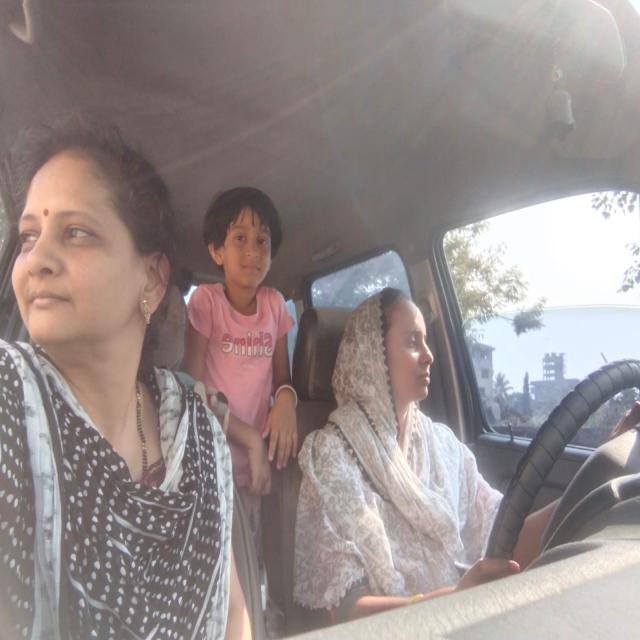LeftRight: (347, 285, 443, 429)
person: (8, 110, 185, 370), (202, 185, 288, 296)
